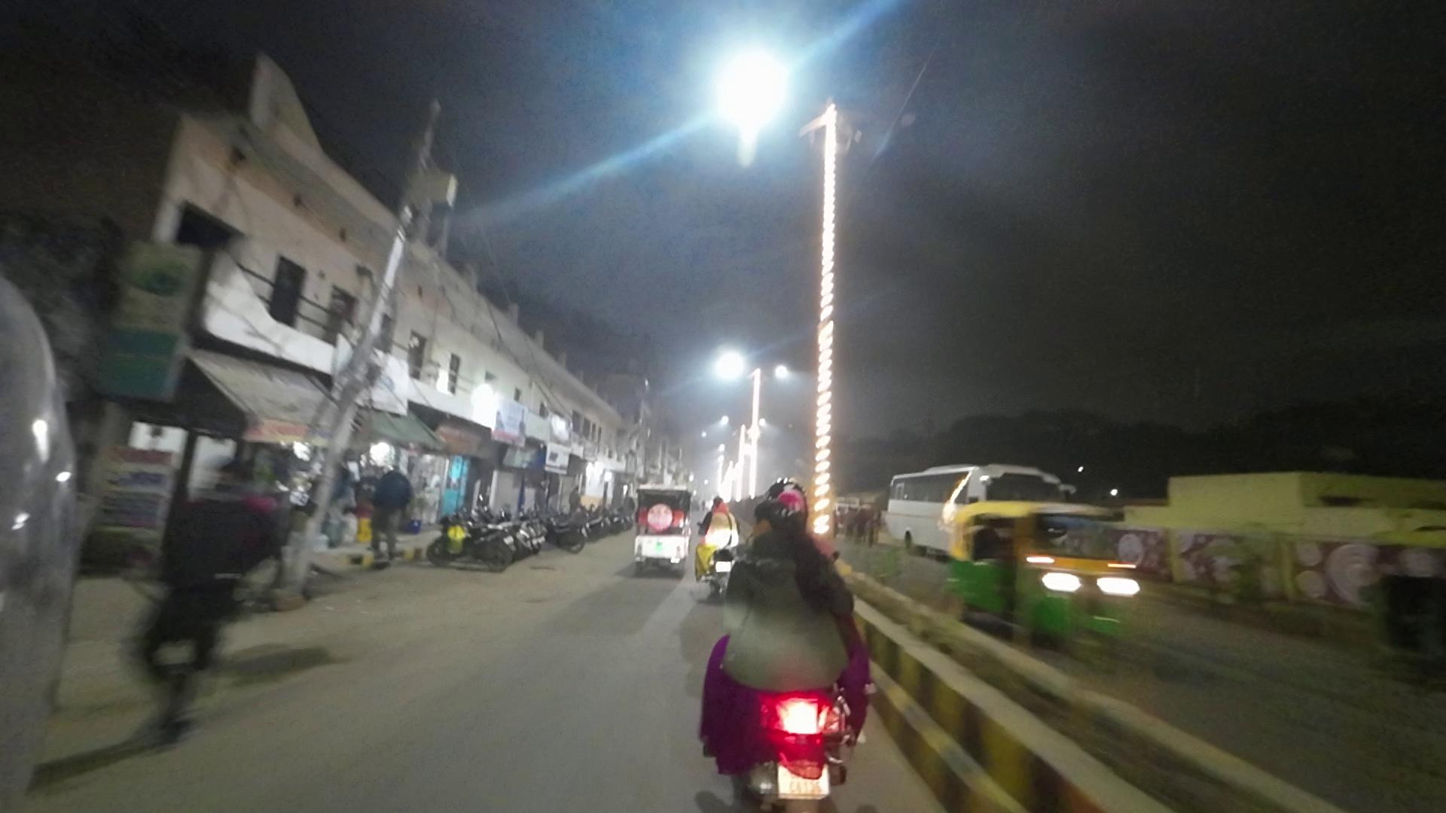streetlight: (845, 102, 919, 132)
